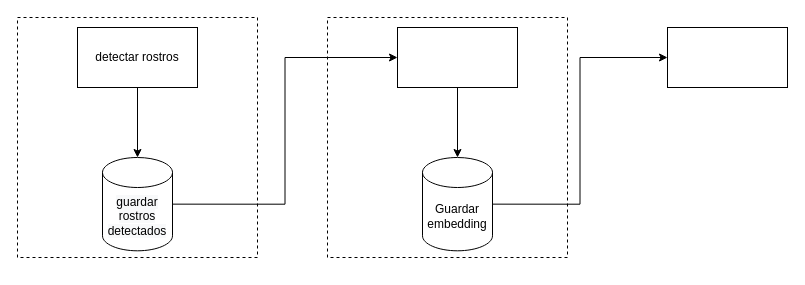
The diagram is 805 pixels wide and 285 high, and some of its shapes have lost their labels. Here are the shapes that lost their labels. From the top down, the box of each, then its label:
(396, 26, 518, 88): Crear embedding
(666, 26, 788, 88): Reconocimiento de rostros
